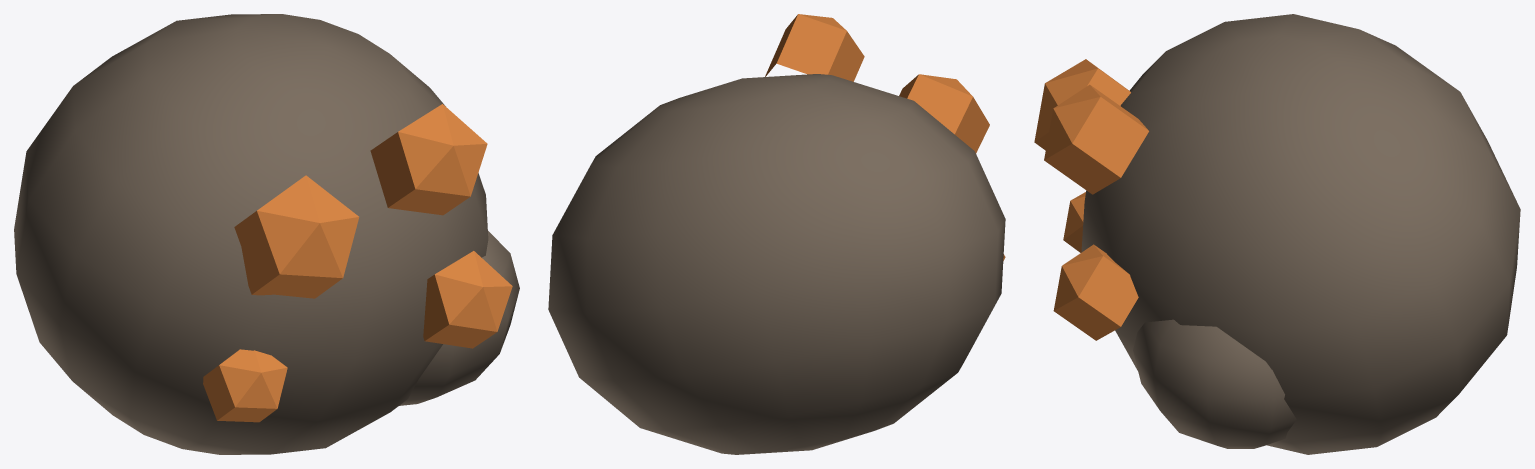
Rendered from mat_copper.glb.
3 views of the same model, side by side, from view 1: azimuth 30°, elevation 25°; view 2: azimuth 150°, elevation 25°; view 3: azimuth 270°, elevation 25° (orthographic). The views are drawn at different scales.
Parts seen in each view (by area): view 1: _crystal; view 2: _crystal; view 3: _crystal.
Part boxes in pixels (x1,y1,x2,y2): _crystal: (14, 14, 519, 454); _crystal: (548, 14, 1005, 454); _crystal: (1034, 14, 1520, 454).
Bounding box in the file's own units: 0.7911 × 0.6879 × 0.8113.
